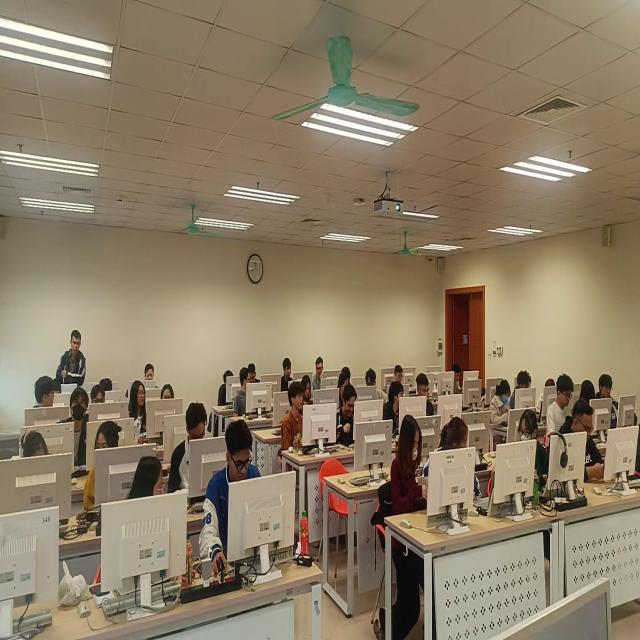raise_head: (57, 389, 92, 466), (281, 377, 309, 454)
stand: (56, 327, 92, 388)
using_computer: (198, 416, 270, 579), (166, 399, 209, 496), (546, 371, 575, 434), (335, 380, 360, 450), (599, 374, 628, 429), (22, 423, 52, 465), (414, 369, 438, 416), (491, 378, 511, 425), (510, 368, 532, 409), (217, 365, 235, 412), (365, 367, 386, 401), (538, 375, 555, 415), (579, 377, 599, 409), (280, 354, 295, 394), (311, 353, 325, 391), (337, 372, 350, 409), (301, 374, 315, 408), (451, 358, 464, 393), (92, 382, 107, 411), (145, 360, 158, 387), (160, 383, 176, 404), (249, 361, 262, 386), (101, 376, 116, 394), (394, 361, 402, 388)
using_phone: (549, 394, 606, 484), (390, 411, 426, 509)
